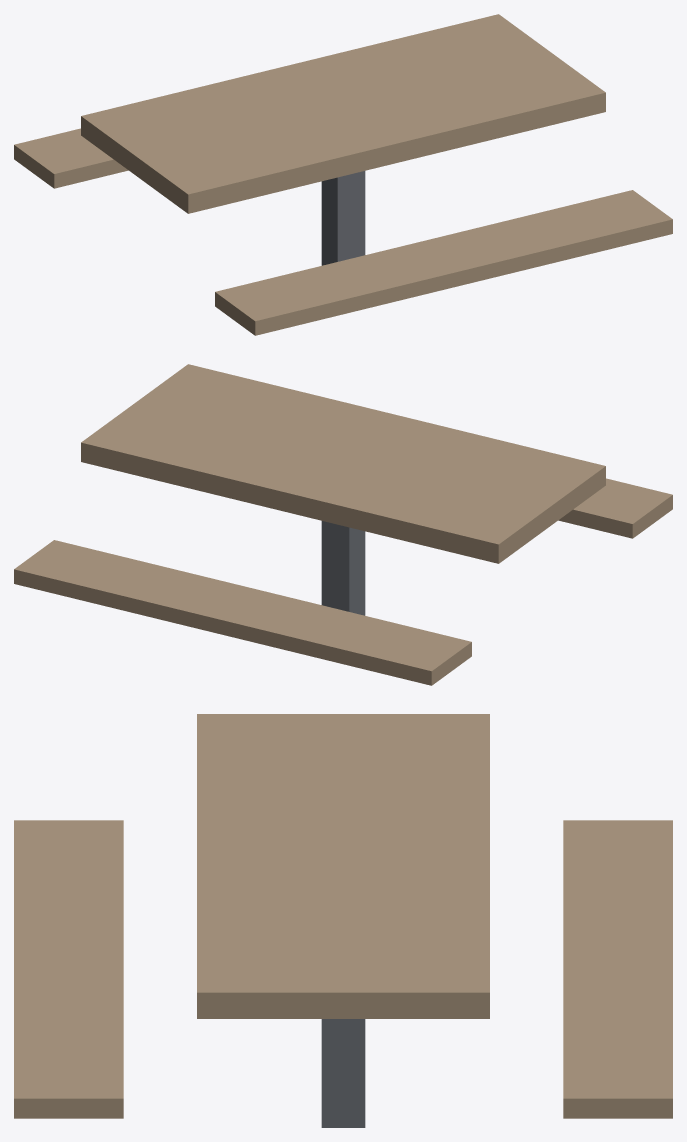
Rendered from table.glb.
The picture shows the model from 3 angles, top to bottom: view 1: azimuth 30°, elevation 25°; view 2: azimuth 150°, elevation 25°; view 3: azimuth 270°, elevation 25°; orthographic projection. The views are drawn at different scales.
Parts seen in each view (by area): view 1: table; view 2: table; view 3: table.
Boxes of the visible parts, box(x1,y1,x2,y2) form: table: box(14, 14, 672, 335); table: box(14, 364, 672, 685); table: box(14, 714, 672, 1127).
Bounding box in the file's own units: 1.8 × 0.8 × 1.8.
